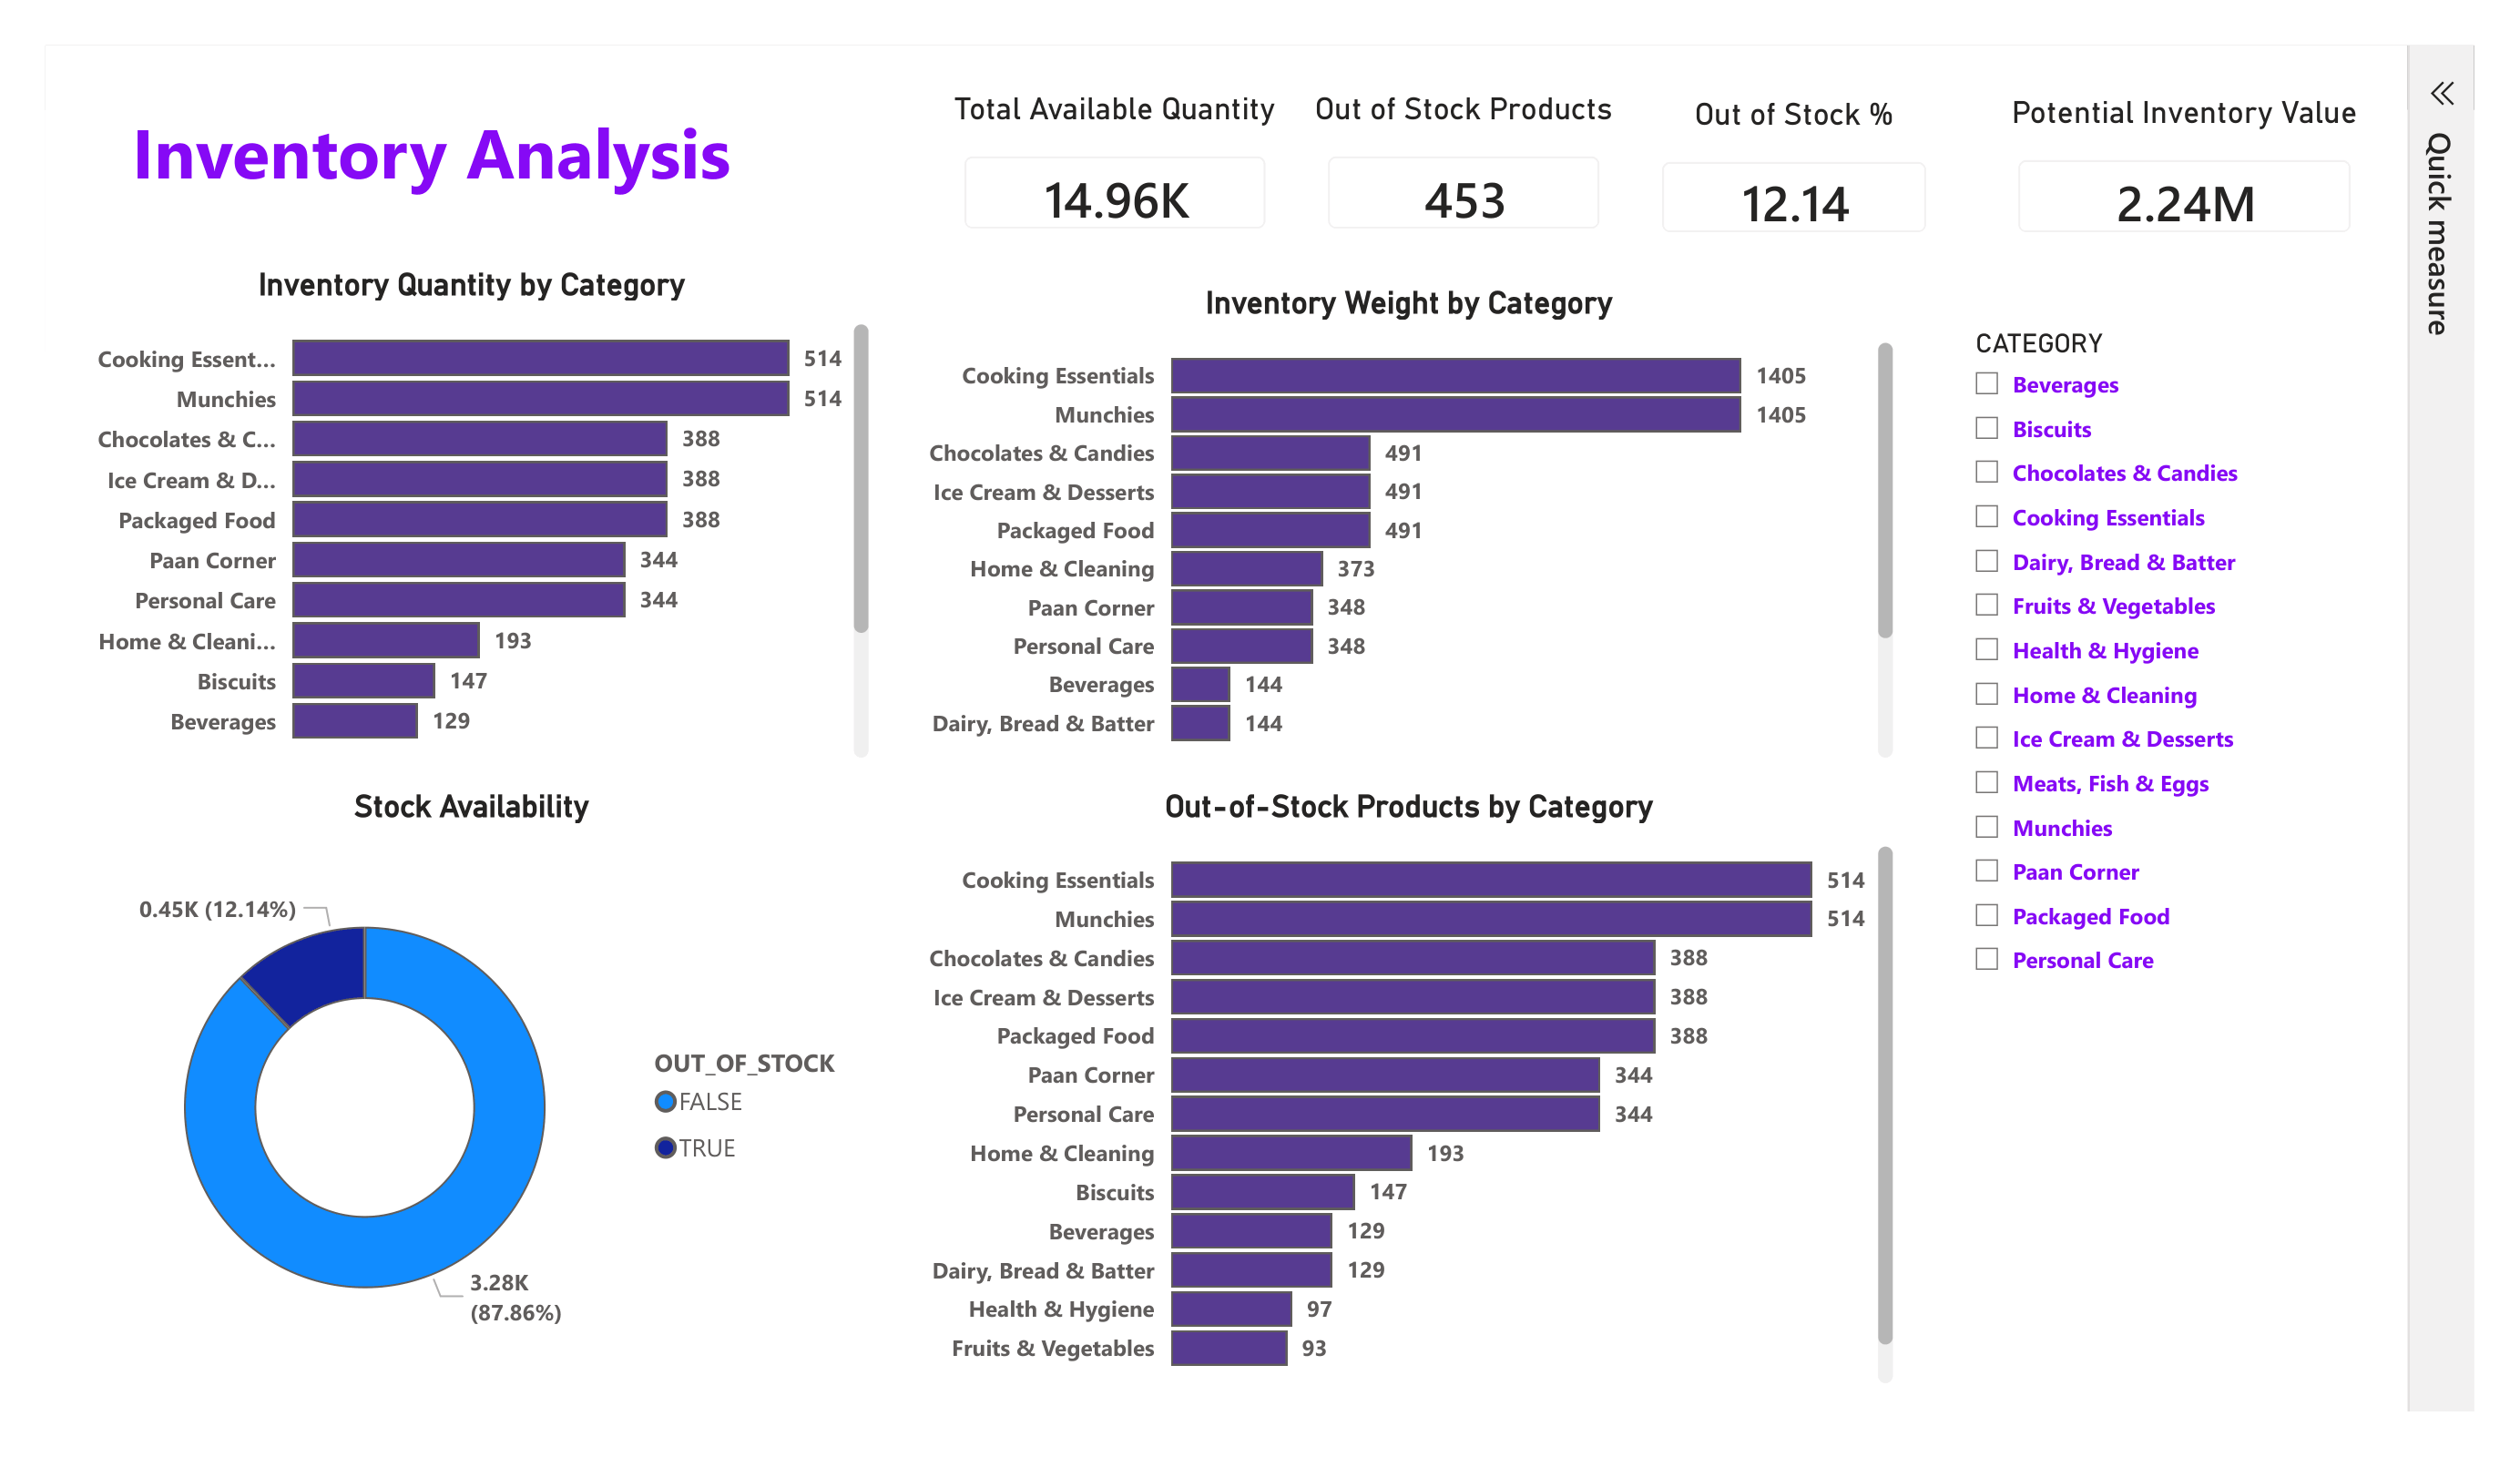

What the dashboard file says about the page in this screenshot:
{"tool":"powerbi","page":{"name":"Inventory Analysi","canvas":[1280,720],"ordinal":2},"visuals":[{"type":"cardVisual","title":"Total Available Quantity","fields":{"Data":["Sum(ZEPTO_INVENTORY.AVAILABLE_QUANTITY)"]},"box":[481.4,14.5,196.6,92.9],"z":0},{"type":"cardVisual","title":"Out of Stock Products","fields":{"Data":["ZEPTO_INVENTORY.Out of Stock Products"]},"box":[678,14.5,181,92.9],"z":1000},{"type":"cardVisual","title":"Out of Stock %","fields":{"Data":["ZEPTO_INVENTORY.Out of Stock %"]},"box":[859,16.9,177.3,91.7],"z":2000},{"type":"cardVisual","title":"Potential Inventory Value","fields":{"Data":["ZEPTO_INVENTORY.Potential Inventory Value"]},"box":[1052,15.7,213.5,92.9],"z":3000},{"type":"barChart","title":"Inventory Quantity by Category","fields":{"Category":["ZEPTO_INVENTORY.CATEGORY"],"Y":["CountNonNull(ZEPTO_INVENTORY.AVAILABLE_QUANTITY)"]},"box":[10.9,108.6,440.4,272.7],"z":4000},{"type":"barChart","title":"Inventory Weight by Category","fields":{"Category":["ZEPTO_INVENTORY.CATEGORY"],"Y":["ZEPTO_INVENTORY.Inventory Weight KG"]},"box":[471.7,119.4,534.5,261.8],"z":5000},{"type":"donutChart","title":"Stock Availability","fields":{"Y":["CountNonNull(ZEPTO_INVENTORY.SKU_ID)"],"Category":["ZEPTO_INVENTORY.OUT_OF_STOCK"]},"box":[10.9,392.1,440.4,328.2],"z":5001},{"type":"barChart","title":"Out-of-Stock Products by Category","fields":{"Category":["ZEPTO_INVENTORY.CATEGORY"],"Y":["CountNonNull(ZEPTO_INVENTORY.OUT_OF_STOCK)"]},"box":[471.7,392.1,534.5,328.2],"z":5002},{"type":"slicer","fields":{"Values":["ZEPTO_INVENTORY.CATEGORY"]},"box":[1032.7,137.5,232.8,487.4],"z":5003},{"type":"textbox","box":[10.9,16.9,395.7,82],"z":5004}]}

Visuals, with their boxes on the page's 1280x720 design canvas (x1, y1, x2, y2). These are canvas units, not pixel positions in the 2520x1457 screenshot, which may show the page scaled, cropped or inside an application window:
"Total Available Quantity" cardVisual: (481,14,678,107)
"Out of Stock Products" cardVisual: (678,14,859,107)
"Out of Stock %" cardVisual: (859,17,1036,109)
"Potential Inventory Value" cardVisual: (1052,16,1266,109)
"Inventory Quantity by Category" barChart: (11,109,451,381)
"Inventory Weight by Category" barChart: (472,119,1006,381)
"Stock Availability" donutChart: (11,392,451,720)
"Out-of-Stock Products by Category" barChart: (472,392,1006,720)
slicer - ZEPTO_INVENTORY.CATEGORY: (1033,138,1266,625)
textbox: (11,17,407,99)
